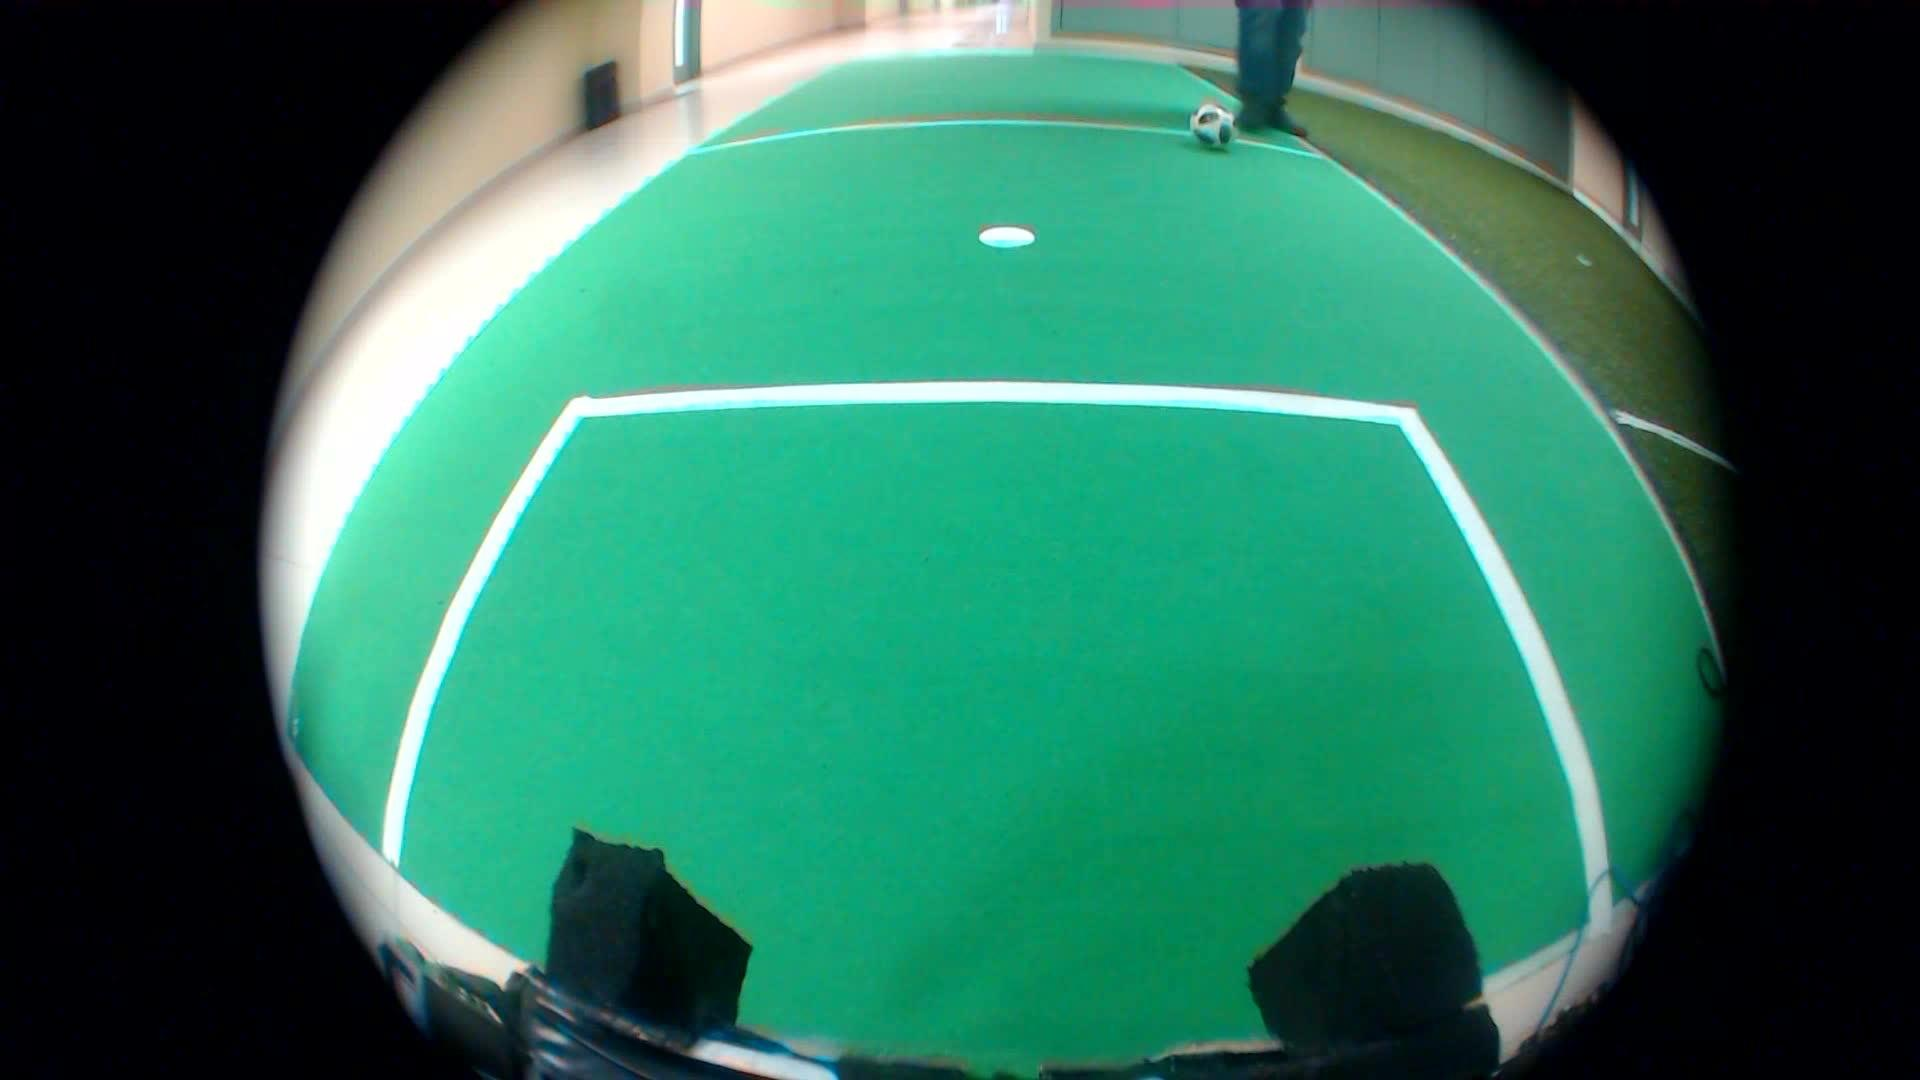ball: (1188, 96, 1241, 158)
